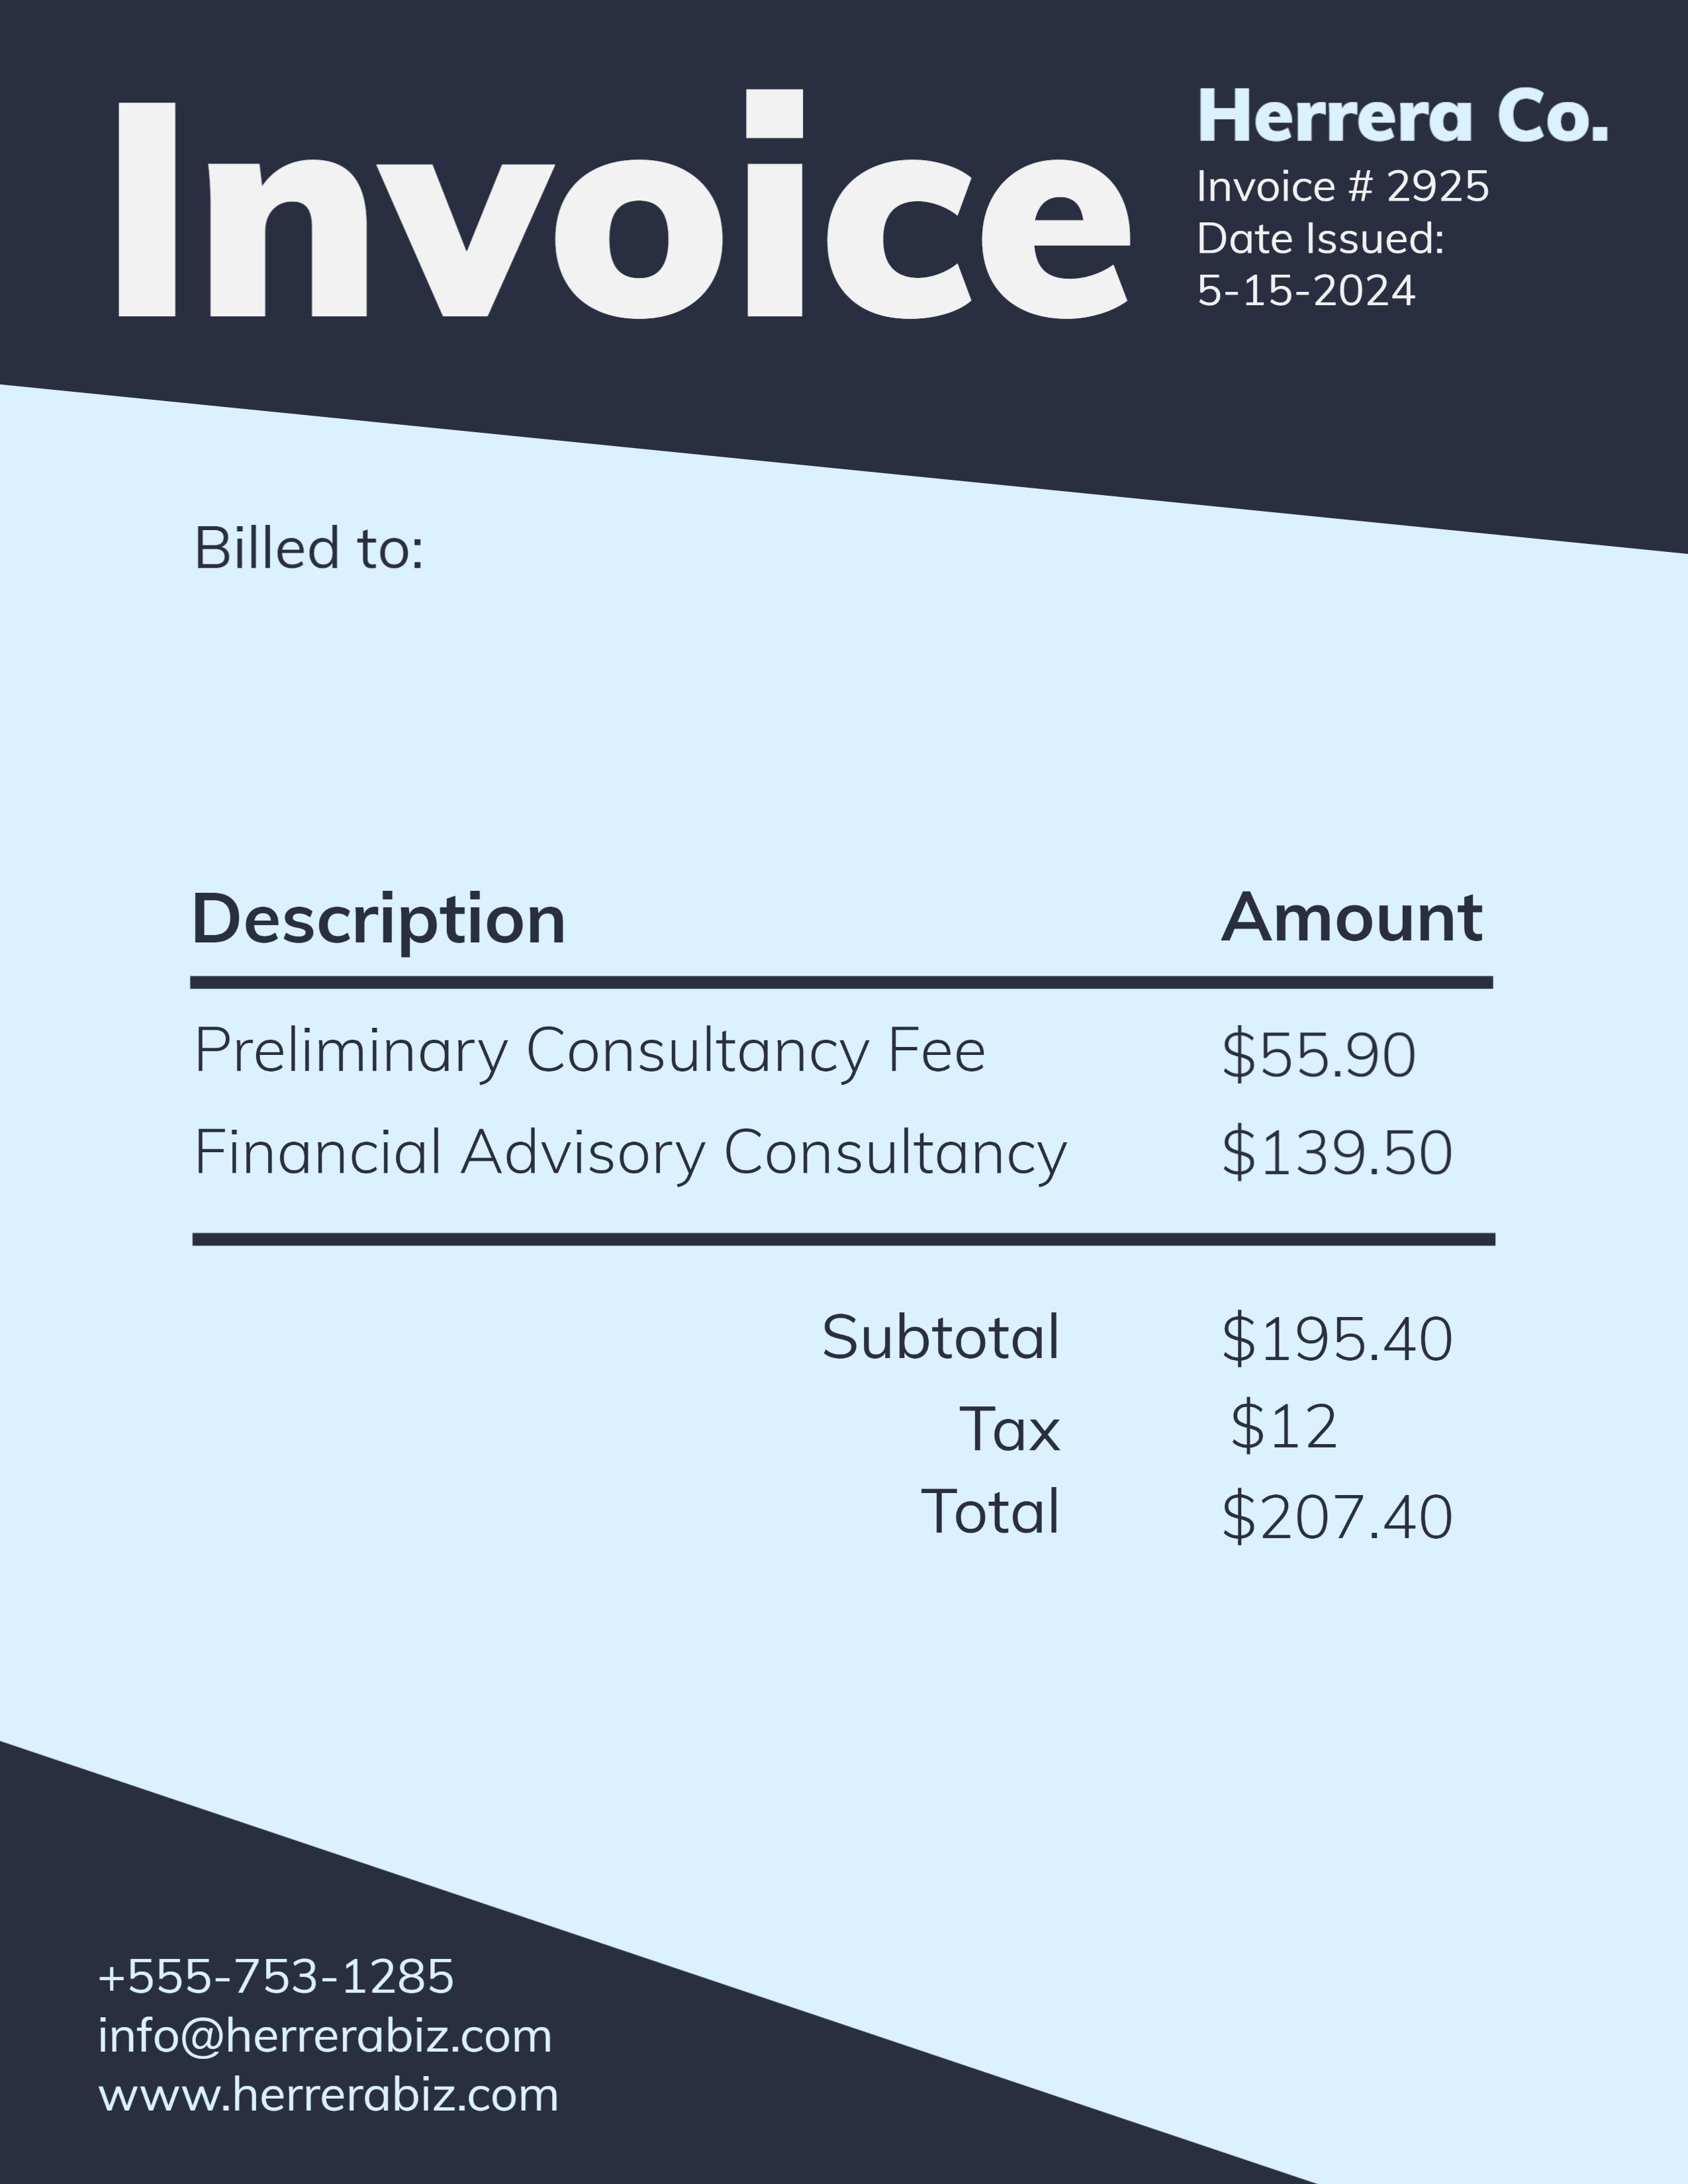ROI: (186, 881, 1509, 1248), (814, 1301, 1463, 1569), (1168, 73, 1638, 351), (168, 512, 520, 833)
